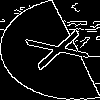X: (25, 25, 100, 71)
